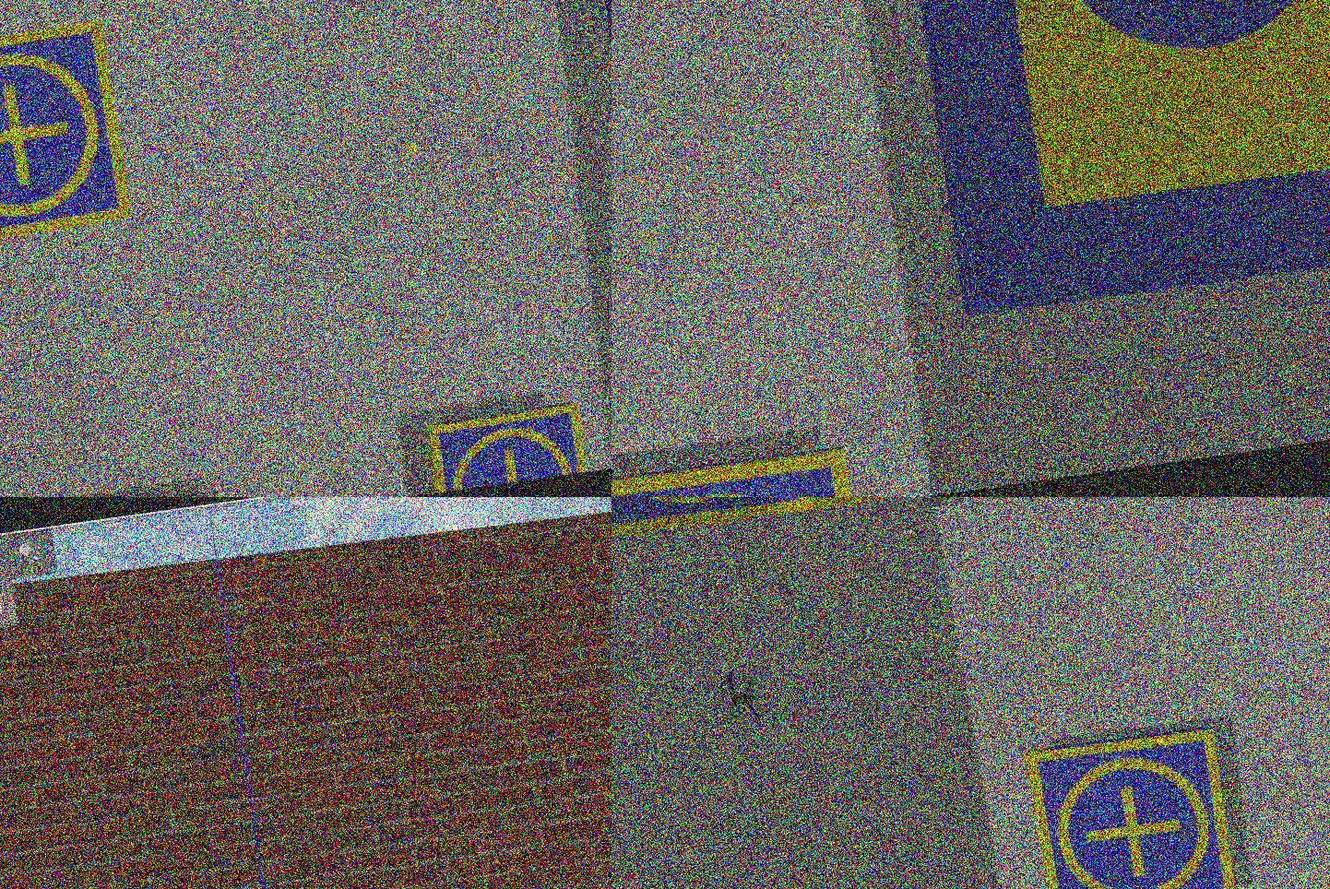large_base: (888, 1, 1330, 312)
small_base: (1027, 727, 1243, 889), (1, 18, 136, 251), (422, 402, 589, 494), (612, 450, 850, 498)
